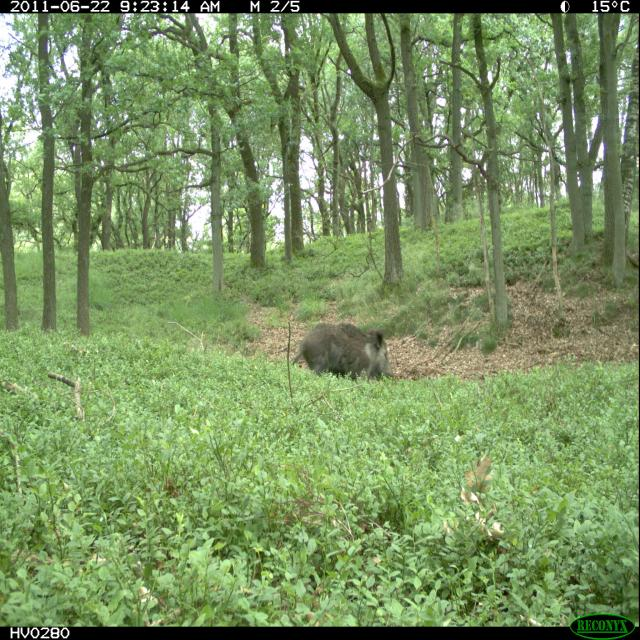boar: (285, 295, 413, 404)
